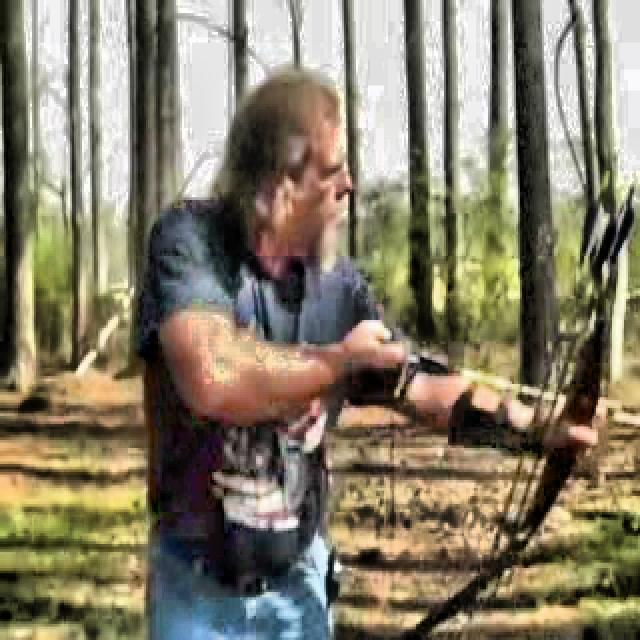I: (103, 68, 583, 582)
